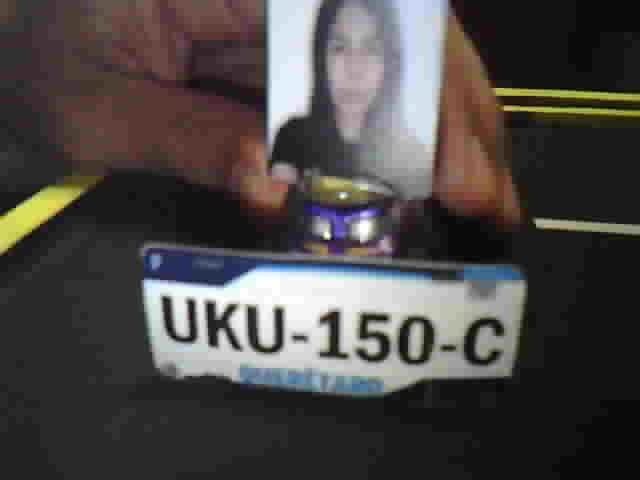PLACA: (136, 239, 532, 405)
ROSTRO: (269, 1, 431, 199)
